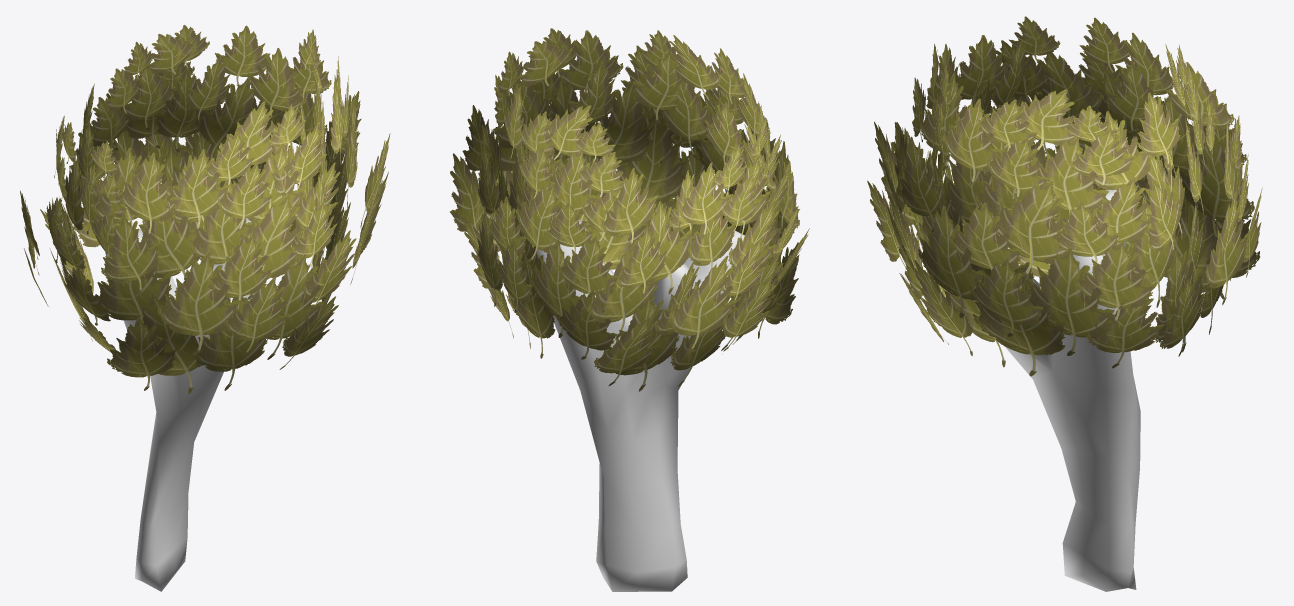
Rendered from Tree2.fbx.
The picture shows the model from 3 angles, left to right: view 1: azimuth 30°, elevation 25°; view 2: azimuth 150°, elevation 25°; view 3: azimuth 270°, elevation 25°; orthographic projection. The views are drawn at different scales.
Parts seen in each view (by area): view 1: Tree2; view 2: Tree2; view 3: Tree2.
Boxes of the visible parts, x1,y1,x2,y2 form: Tree2: (20,25,390,591); Tree2: (450,28,809,591); Tree2: (867,16,1262,591).
Size of the model in its own units: 13.73 by 19.83 by 13.2.
